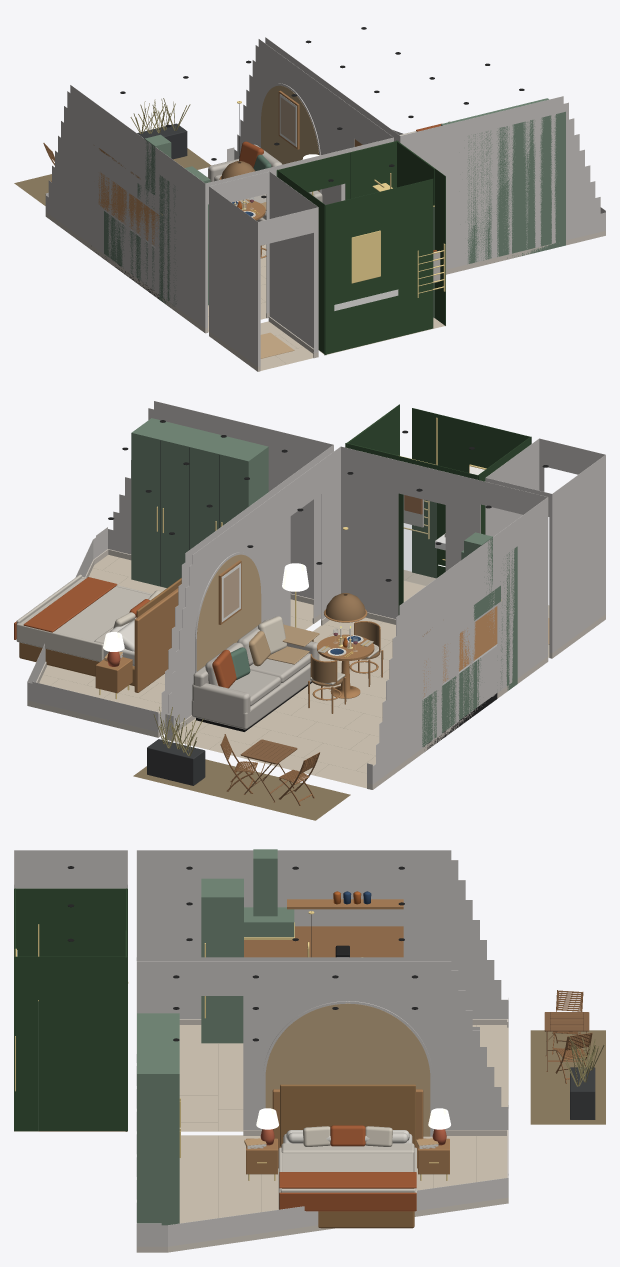
File: unit-2.B-riviera.glb
3 views of the same model, one above another, from view 1: azimuth 30°, elevation 25°; view 2: azimuth 150°, elevation 25°; view 3: azimuth 270°, elevation 25° (orthographic). The views are drawn at different scales.
Visible parts, largest first — view 1: int-wall, int-bathWall, int-joineryTall, int-showerWall, int-feature, int-skirting, int-joinery, int-metal, int-splash, int-hallFloor, int-deck, int-outdoor (+7 smaller); view 2: int-wall, int-joineryTall, int-floor, int-bathWall, int-sofa, int-wood, int-deck, int-duvet, int-feature, int-joinery, int-skirting, int-glass (+21 smaller); view 3: int-wall, int-bathWall, int-floor, int-joineryTall, int-feature, int-headboard, int-deck, int-bedThrow, int-duvet, int-splash, int-wood, int-joinery (+11 smaller).
Part boxes in pixels (x1=…): int-wall: x1=45, y1=37, x2=605, y2=366; int-bathWall: x1=276, y1=140, x2=445, y2=355; int-joineryTall: x1=159, y1=98, x2=565, y2=310; int-showerWall: x1=350, y1=140, x2=434, y2=317; int-feature: x1=261, y1=85, x2=319, y2=191; int-skirting: x1=45, y1=212, x2=605, y2=371; int-joinery: x1=104, y1=134, x2=171, y2=288; int-metal: x1=157, y1=101, x2=445, y2=297; int-splash: x1=98, y1=172, x2=159, y2=245; int-hallFloor: x1=260, y1=321, x2=313, y2=370; int-deck: x1=14, y1=148, x2=210, y2=205; int-outdoor: x1=137, y1=123, x2=187, y2=159; int-wall: x1=27, y1=401, x2=605, y2=784; int-joineryTall: x1=131, y1=418, x2=517, y2=690; int-floor: x1=39, y1=555, x2=395, y2=788; int-bathWall: x1=345, y1=404, x2=531, y2=614; int-sofa: x1=191, y1=619, x2=319, y2=729; int-wood: x1=95, y1=560, x2=430, y2=698; int-deck: x1=133, y1=759, x2=350, y2=820; int-duvet: x1=16, y1=574, x2=152, y2=661; int-feature: x1=196, y1=554, x2=261, y2=671; int-joinery: x1=422, y1=532, x2=500, y2=746; int-skirting: x1=27, y1=549, x2=605, y2=789; int-glass: x1=404, y1=495, x2=436, y2=585; int-wall: x1=14, y1=850, x2=508, y2=1246; int-bathWall: x1=14, y1=888, x2=127, y2=1131; int-floor: x1=179, y1=1025, x2=508, y2=1223; int-joineryTall: x1=137, y1=878, x2=243, y2=1225; int-feature: x1=265, y1=1003, x2=430, y2=1136; int-headboard: x1=280, y1=1084, x2=415, y2=1228; int-deck: x1=530, y1=1030, x2=605, y2=1124; int-bedThrow: x1=279, y1=1172, x2=416, y2=1211; int-duvet: x1=278, y1=1143, x2=416, y2=1209; int-splash: x1=244, y1=926, x2=403, y2=957; int-wood: x1=246, y1=899, x2=449, y2=1174; int-joinery: x1=244, y1=849, x2=294, y2=937.
Bounding box in the file's own units: 7.52 × 2.8 × 8.26.
